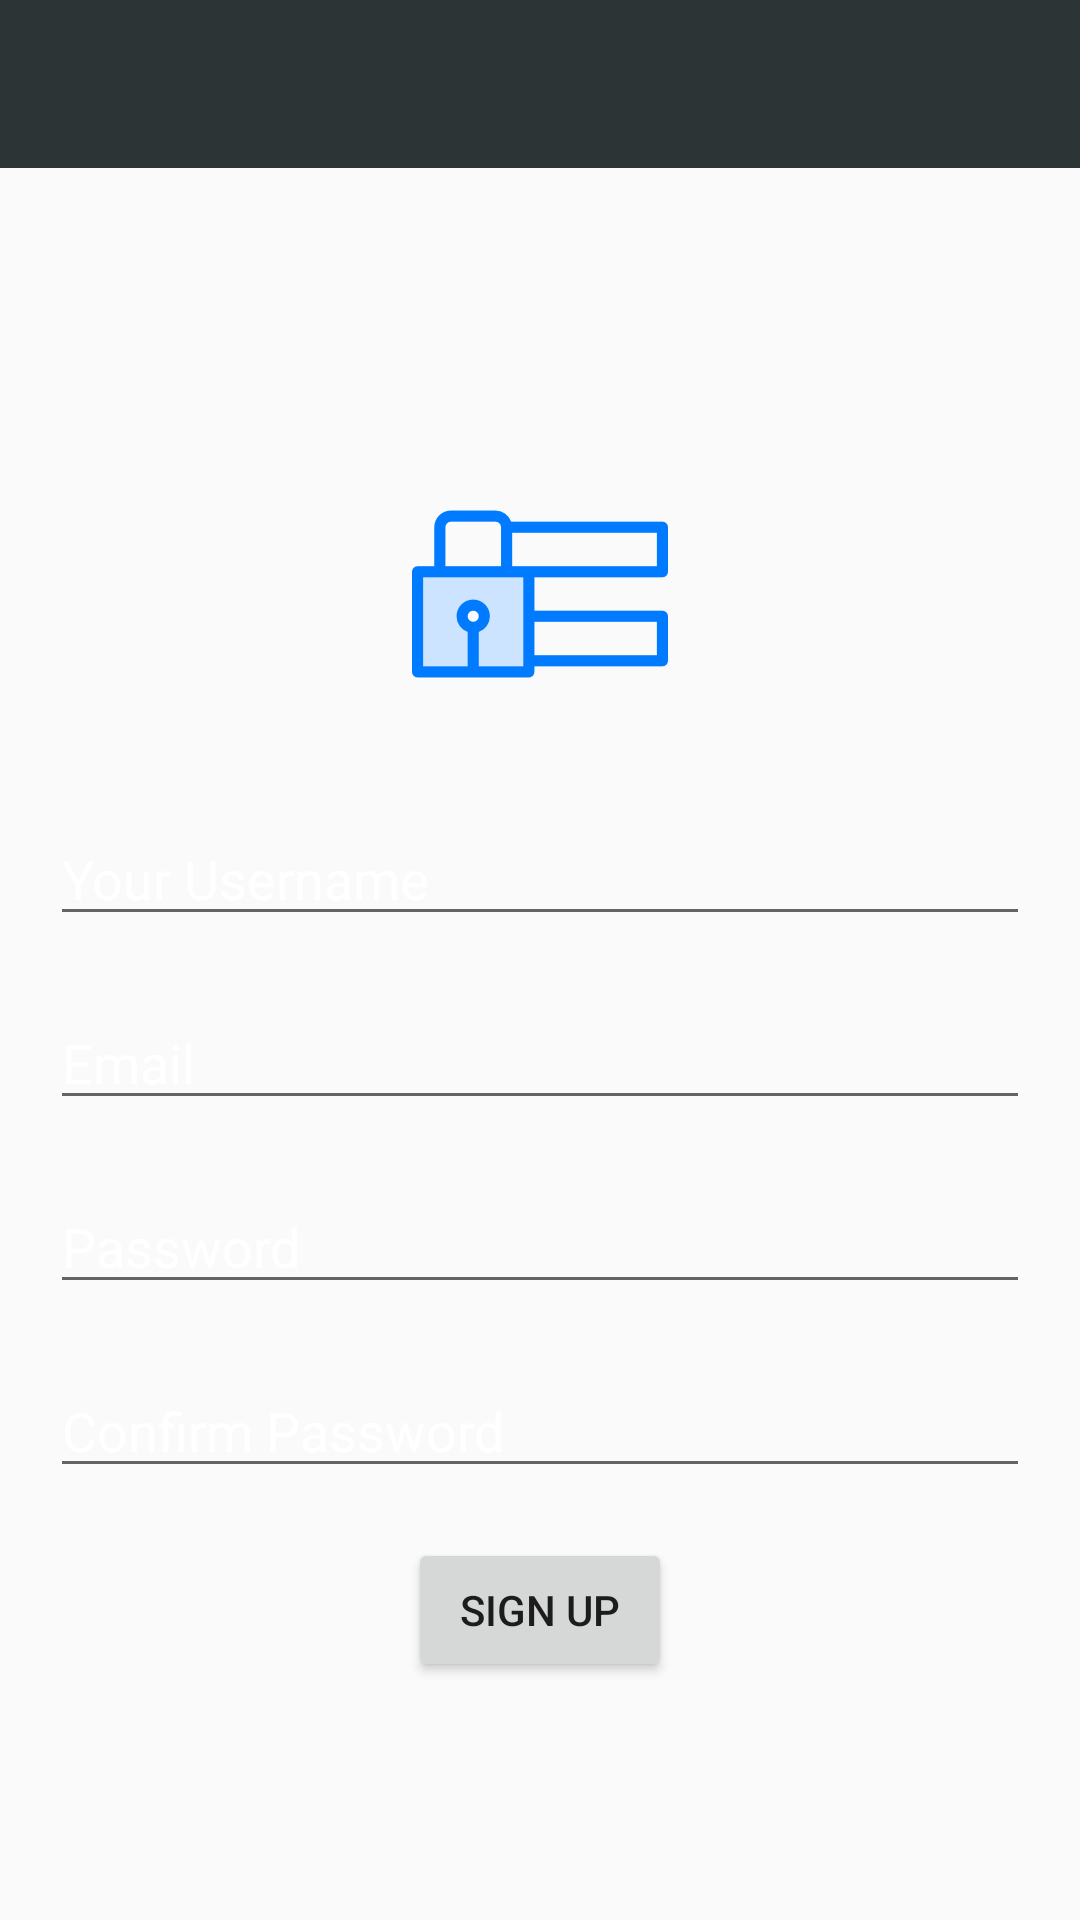

Locate icon controls on the screen. Image size 1080x1920, boxes as (x1, y1, x2, y2).
login: (412, 510, 668, 678)
